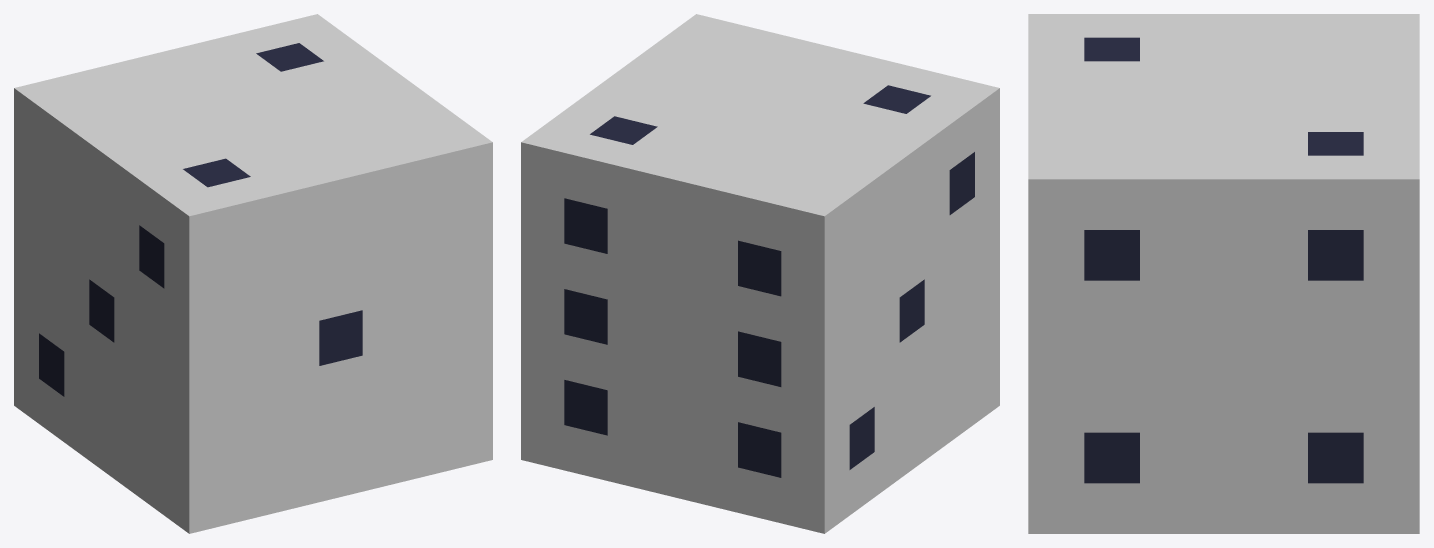
The model's file is SM_Die.fbx.
3 renders of one model, left to right at view 1: azimuth 30°, elevation 25°; view 2: azimuth 150°, elevation 25°; view 3: azimuth 270°, elevation 25°, orthographic. The views are drawn at different scales.
Visible parts, largest first — view 1: Die; view 2: Die; view 3: Die.
Boxes of the visible parts, x1=… form: Die: x1=14, y1=14, x2=492, y2=533; Die: x1=521, y1=14, x2=999, y2=533; Die: x1=1028, y1=14, x2=1419, y2=533.
Bounding box in the file's own units: 0.4388 × 0.4388 × 0.4388.
